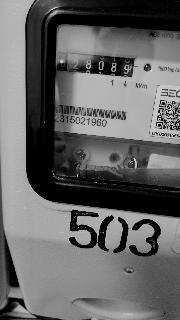1: (60, 59, 66, 68), (99, 62, 104, 71)
3: (74, 60, 79, 69)
9: (112, 63, 117, 73), (87, 60, 92, 69)
:: (125, 65, 130, 74)
